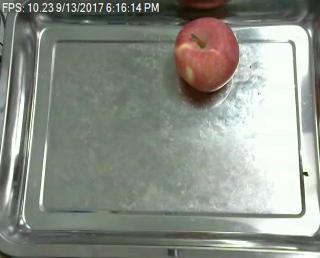apple: (173, 16, 240, 93)
